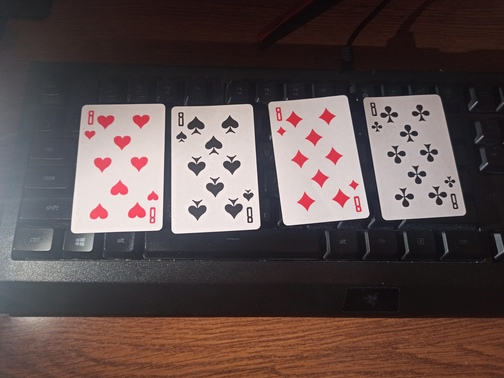eightclubs: (364, 95, 467, 221)
eightdiamonds: (267, 96, 370, 224)
eighthearts: (70, 103, 165, 232)
eightspades: (168, 104, 262, 237)
